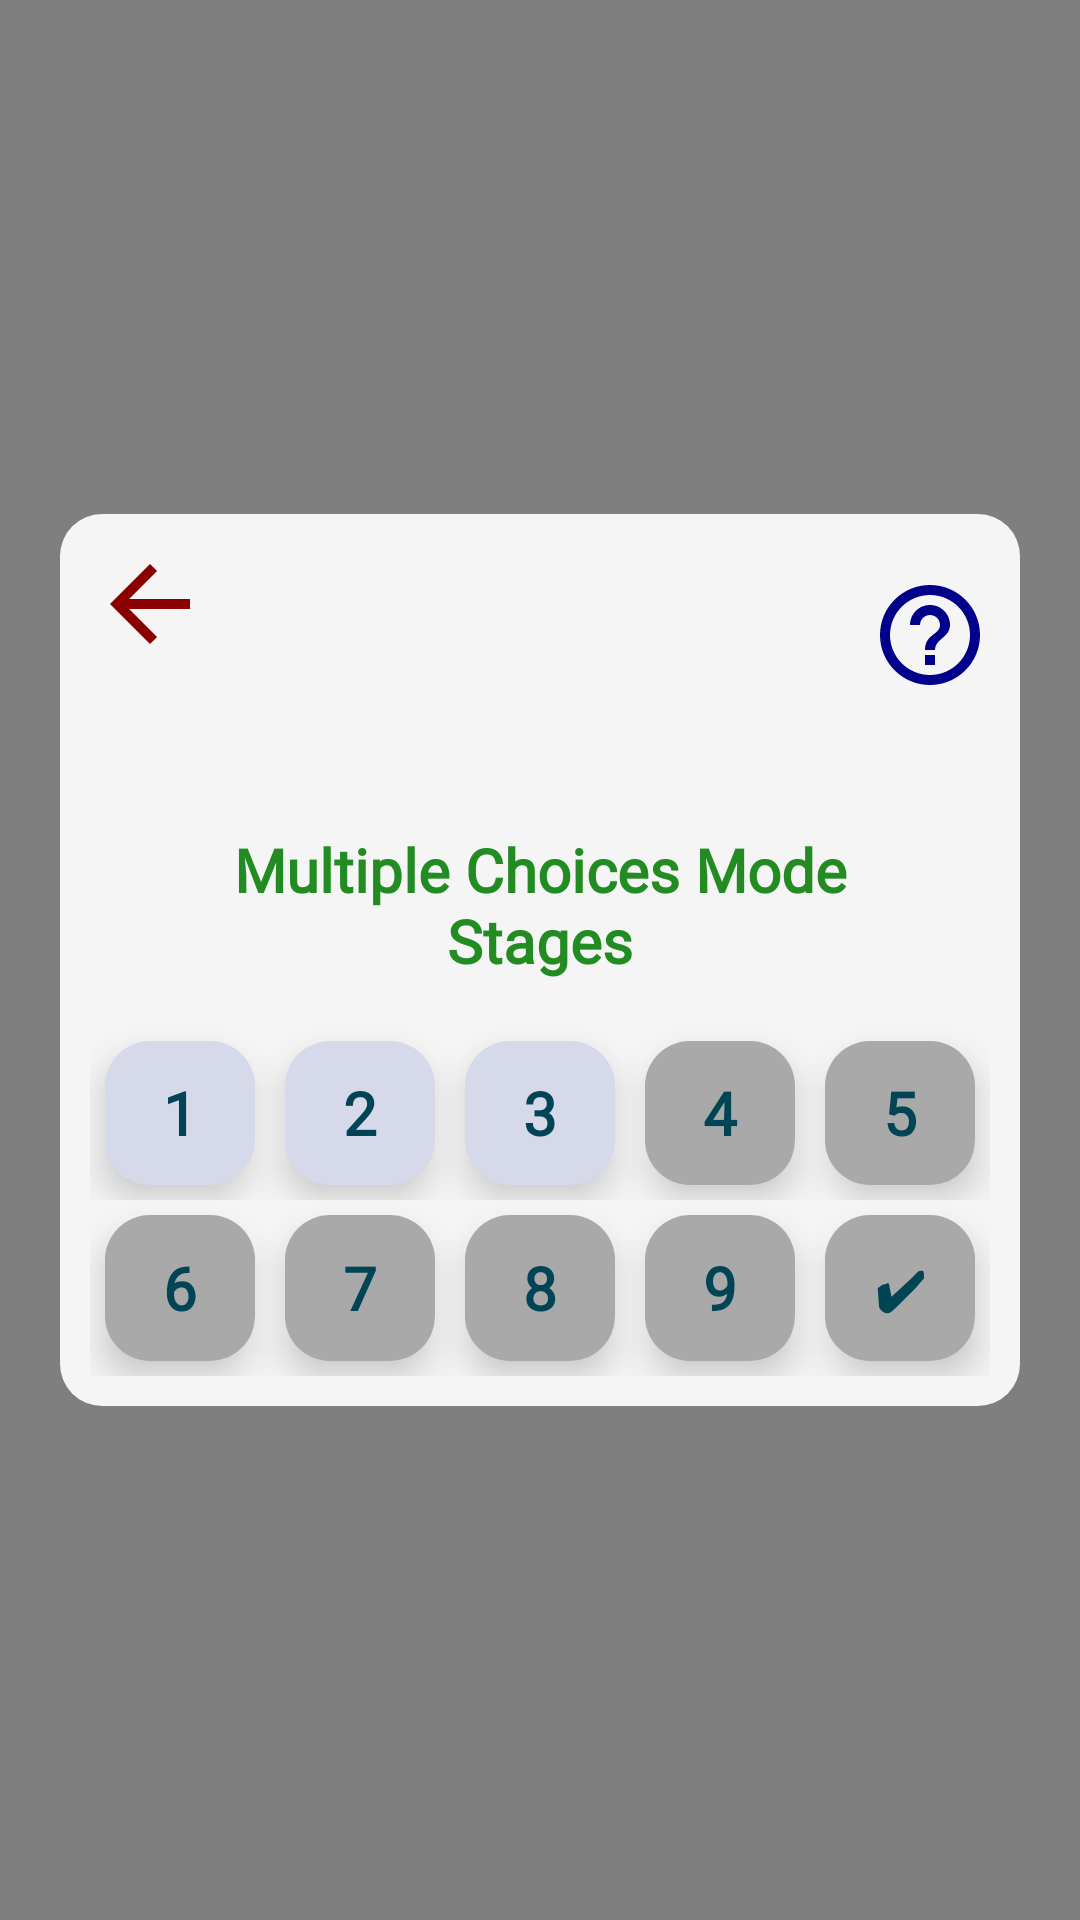

Icon click points for this 1080px×1920px phone screenshot, format (x=x, y=y):
back: (x=150, y=604)
help: (x=930, y=635)
